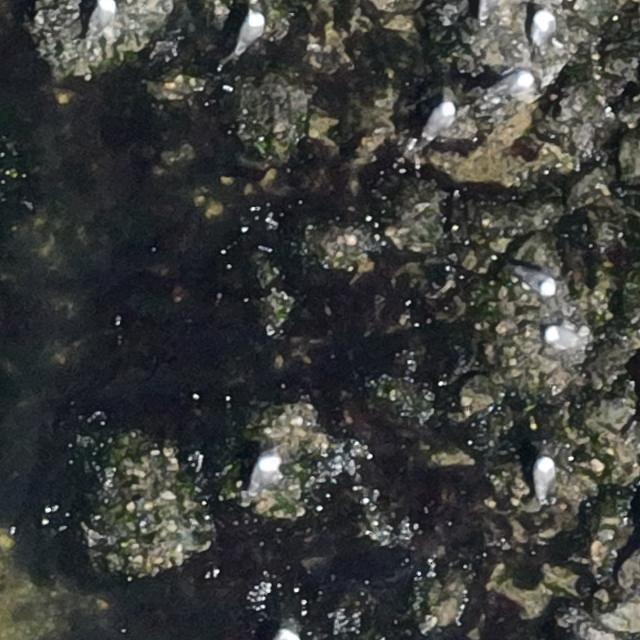umineko: (488, 71, 535, 99), (248, 456, 279, 495), (544, 324, 582, 350), (425, 104, 454, 136), (520, 269, 556, 294), (237, 12, 262, 46), (534, 458, 555, 498), (90, 0, 114, 32), (532, 13, 551, 45), (478, 0, 500, 18)
